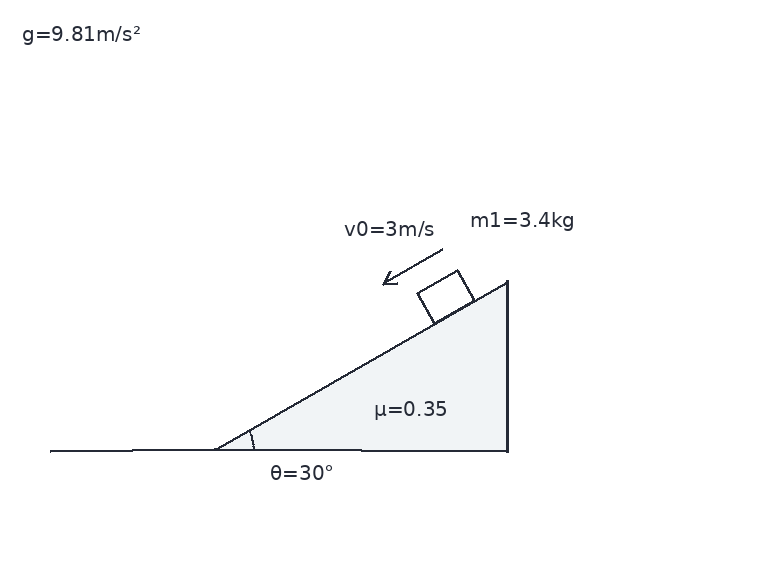block: (415, 268, 476, 325)
ramp: (212, 279, 509, 452)
